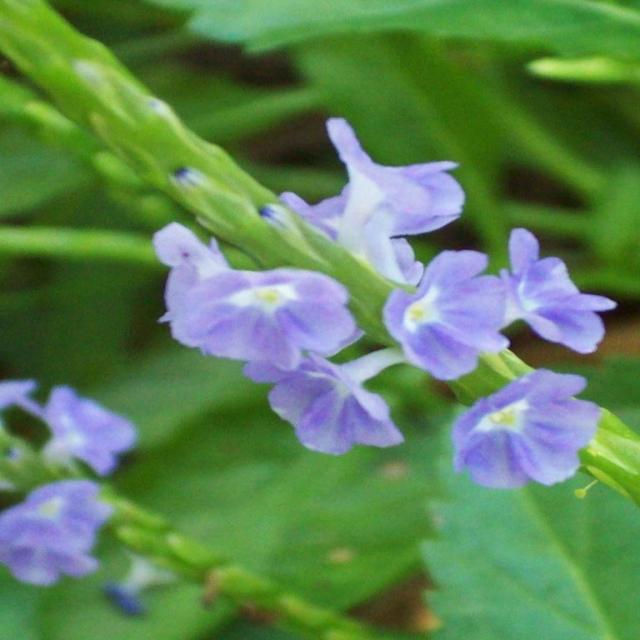organic waste: (134, 225, 377, 368), (284, 115, 478, 277), (445, 362, 613, 497), (364, 239, 518, 378), (474, 226, 616, 363), (271, 355, 418, 466), (5, 480, 124, 580)
